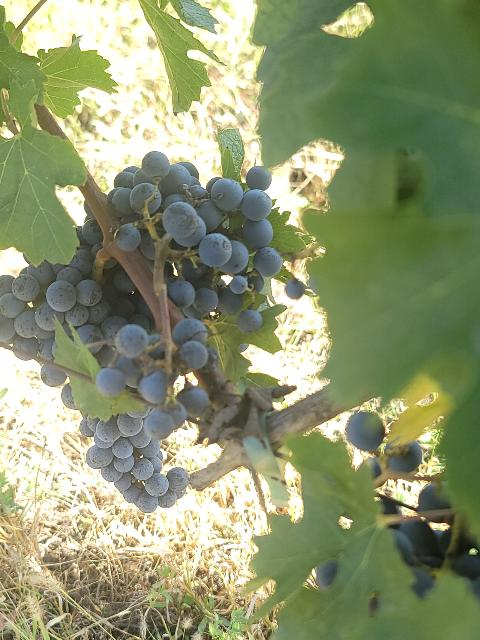grapes: (108, 151, 311, 334), (0, 239, 154, 410), (95, 319, 210, 440), (79, 405, 189, 512)
